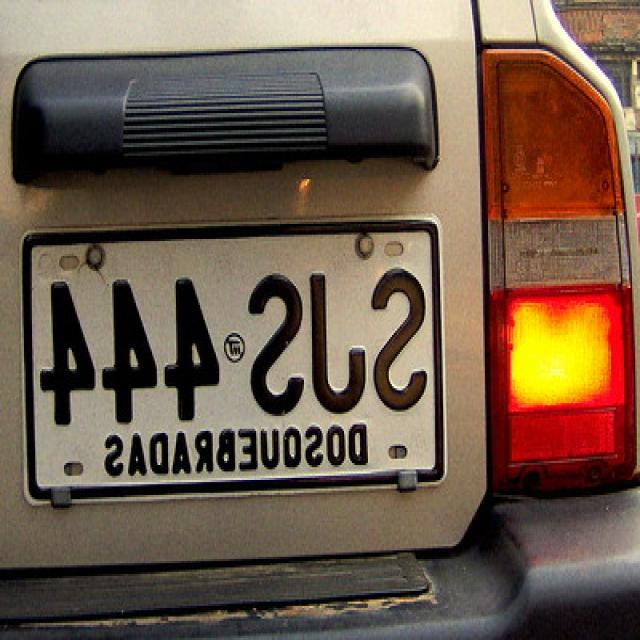placas: (36, 250, 436, 426)
